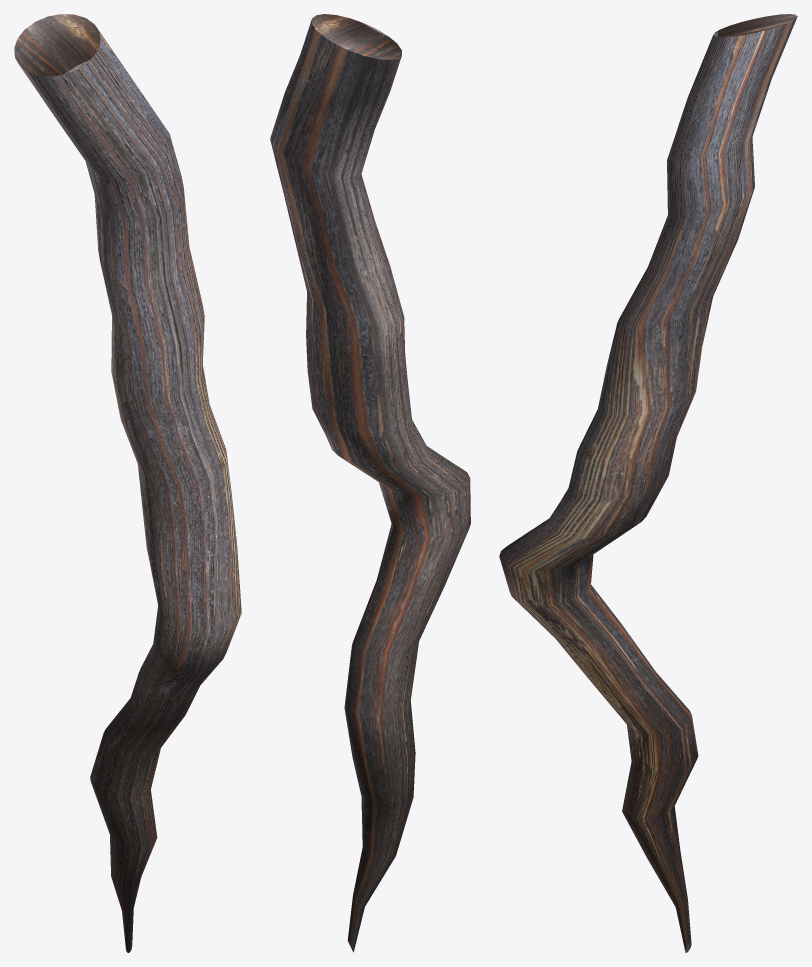
The model's file is stem2.fbx.
3 views of the same model, side by side, from view 1: azimuth 30°, elevation 25°; view 2: azimuth 150°, elevation 25°; view 3: azimuth 270°, elevation 25° (orthographic). The views are drawn at different scales.
Parts seen in each view (by area): view 1: pCylinder11; view 2: pCylinder11; view 3: pCylinder11.
Part boxes in pixels (x1,y1,x2,y2): pCylinder11: (14, 14, 241, 952); pCylinder11: (270, 14, 470, 952); pCylinder11: (499, 14, 797, 952).
Bounding box in the file's own units: 0.7063 × 4.39 × 1.29.
1 material, 1 textured.
